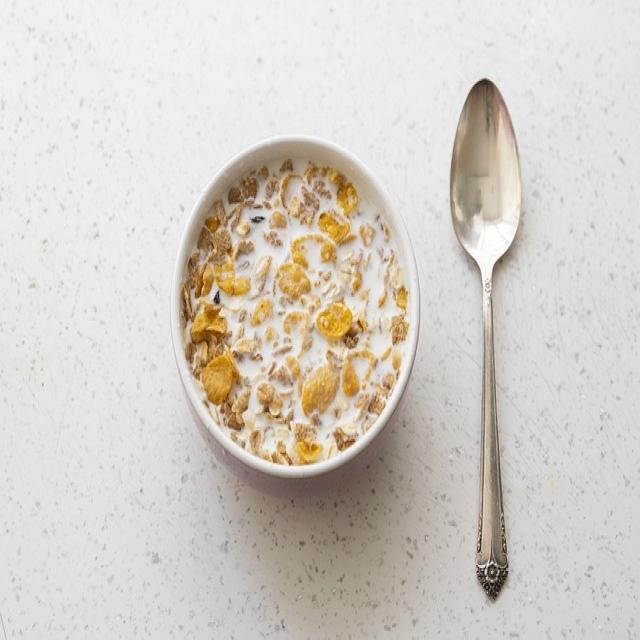spoon: (450, 78, 526, 604)
